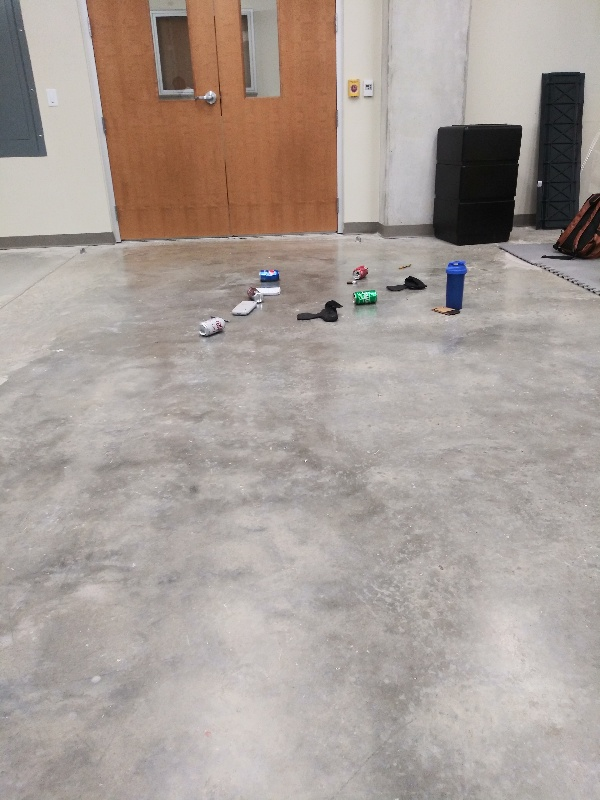can: (191, 313, 230, 340), (349, 288, 380, 310), (257, 267, 282, 282), (246, 285, 266, 303), (352, 264, 370, 281)
